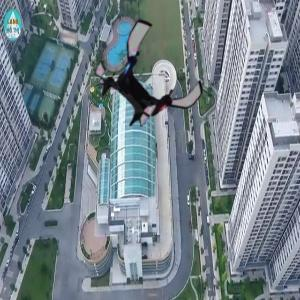drone: (96, 27, 206, 137)
